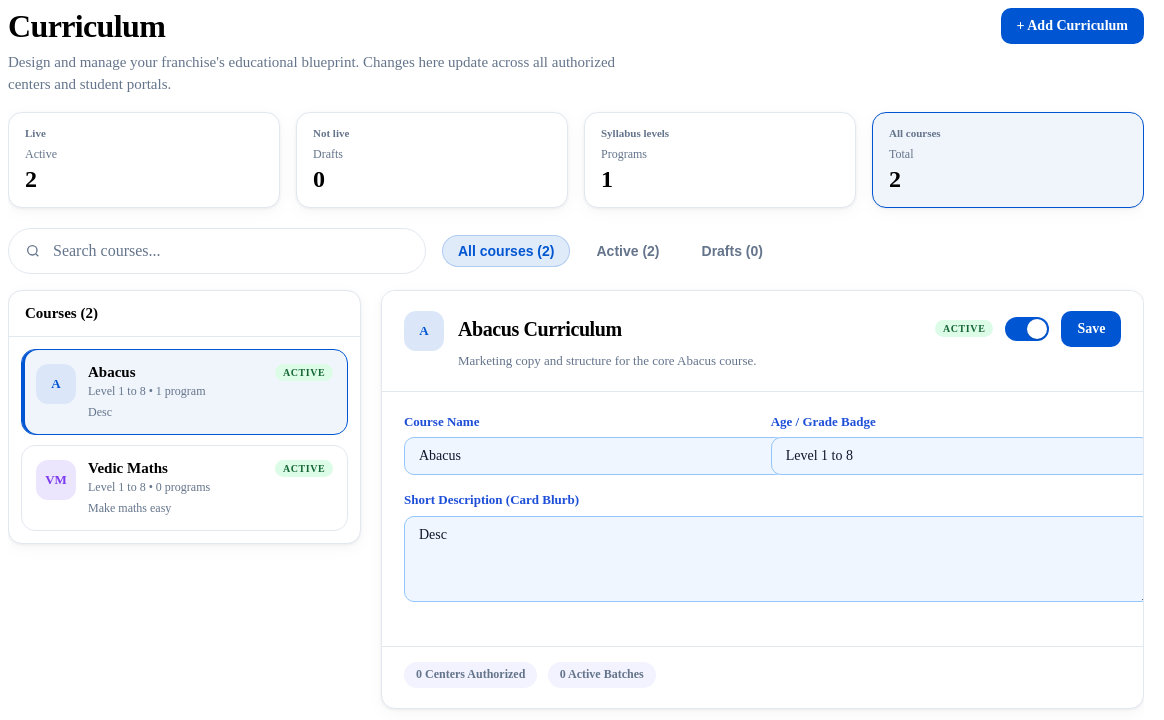
Scenario: CurriculumPage › regression_curriculum_banner_stays_per_course_when_switching
Click the button "Vedic Maths" at (185, 488), box [21,445,348,531]
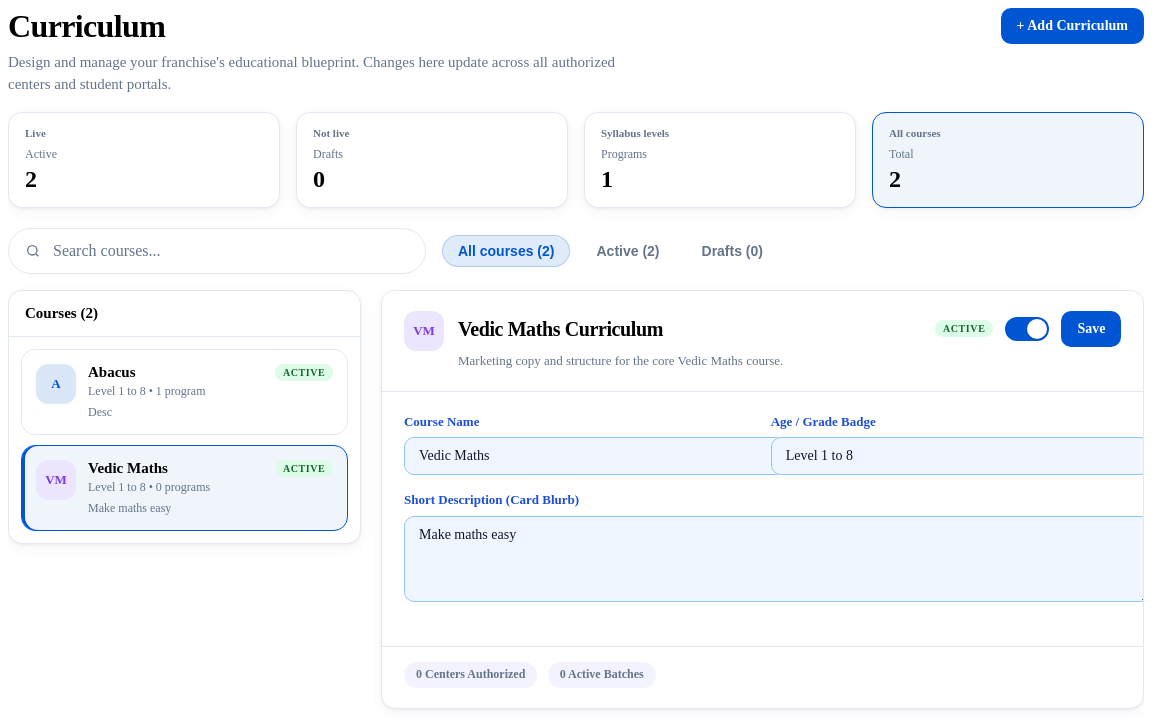
Check: the field showing "Vedic Maths" is shown, box [404,437,785,475]
